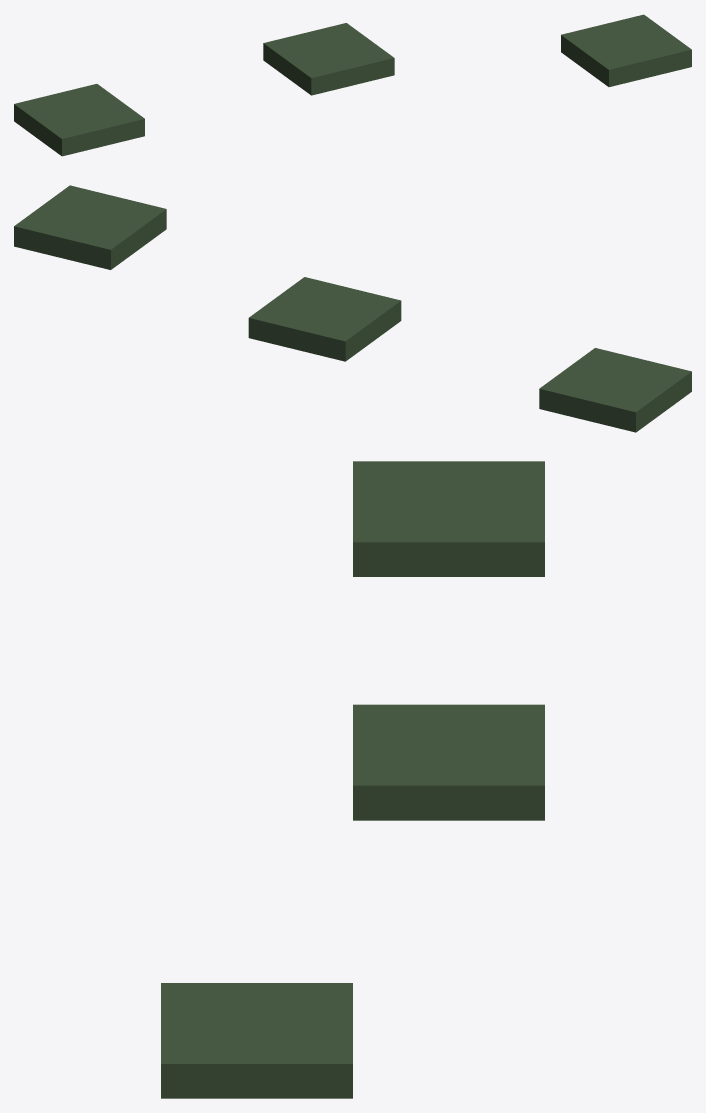
The model's file is tileProtos.fbx.
3 views of the same model, one above another, from view 1: azimuth 30°, elevation 25°; view 2: azimuth 150°, elevation 25°; view 3: azimuth 270°, elevation 25° (orthographic). The views are drawn at different scales.
Visible parts, largest first — view 1: GrassCube.270, Cube.011, GrassCube.050; view 2: GrassCube.270, Cube.011, GrassCube.050; view 3: GrassCube.270, Cube.011, GrassCube.050.
Part boxes in pixels (<box>): GrassCube.270: <box>263,23,394,95</box>; Cube.011: <box>561,14,691,86</box>; GrassCube.050: <box>14,84,144,156</box>; GrassCube.270: <box>248,277,401,361</box>; Cube.011: <box>14,185,166,269</box>; GrassCube.050: <box>539,348,691,432</box>; GrassCube.270: <box>353,704,544,820</box>; Cube.011: <box>161,983,352,1098</box>; GrassCube.050: <box>353,461,544,576</box>.
Size of the model in its own units: 400 by 80 by 1400.
